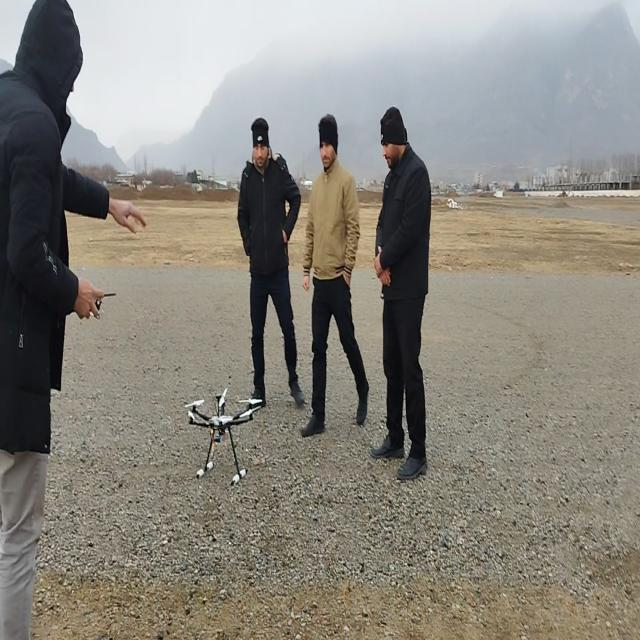drone: (184, 388, 263, 488)
